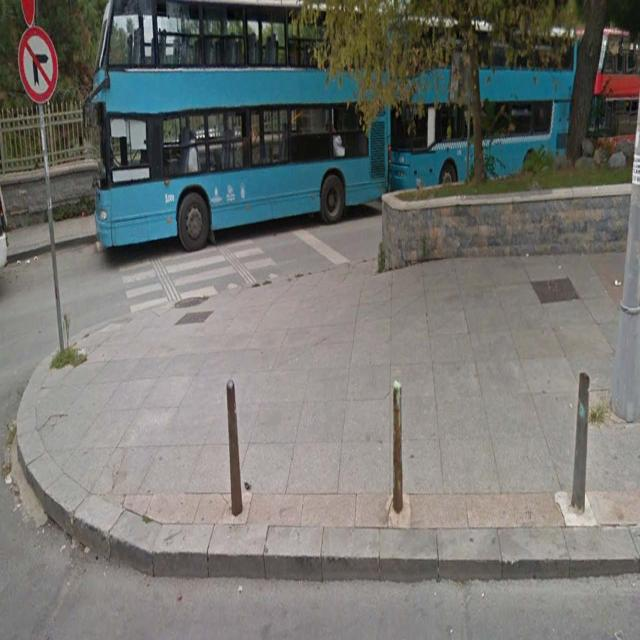sagadonulmez: (18, 26, 59, 102)
